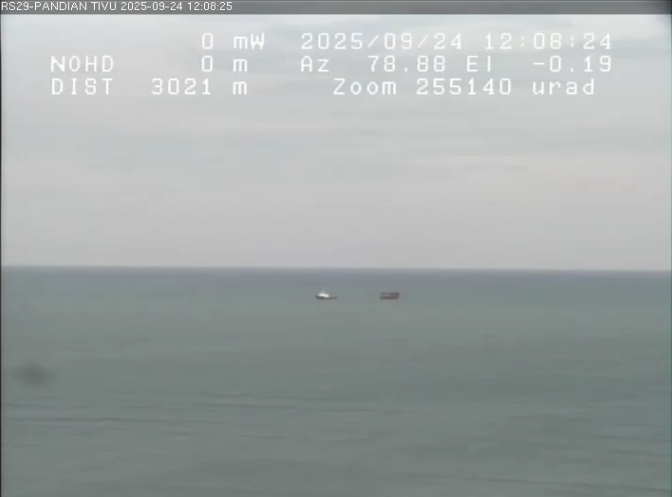BARGE: (370, 286, 407, 310)
OFFSHORE_SUPPLY_VESSEL: (305, 281, 349, 304)
TOWING: (278, 259, 470, 336)
